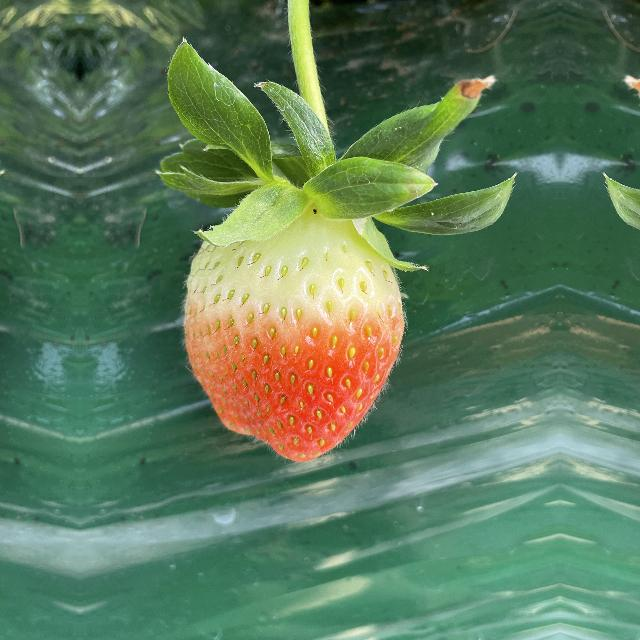Health_75: (172, 178, 412, 462)
